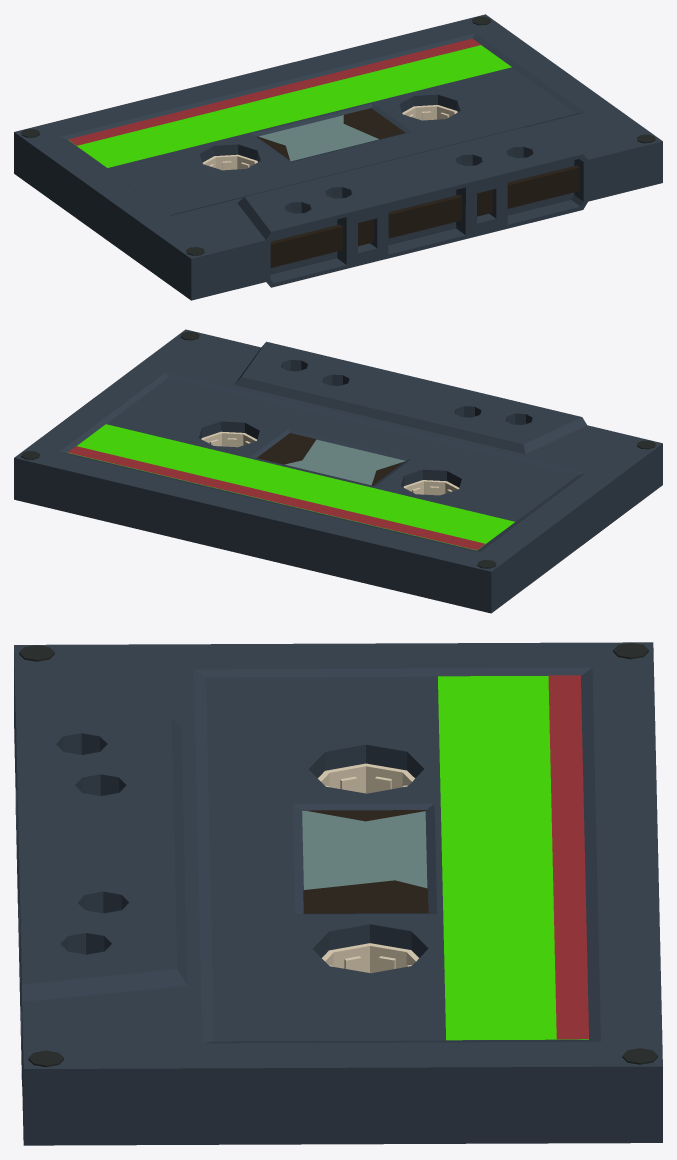
The model's file is Cassette.glb.
3 renders of one model, top to bottom at view 1: azimuth 30°, elevation 25°; view 2: azimuth 150°, elevation 25°; view 3: azimuth 270°, elevation 25°, orthographic. The views are drawn at different scales.
Parts seen in each view (by area): view 1: Cube.024_36, Plane.006_40, Cube.025_37, Circle_39, Cylinder.016_38; view 2: Cube.024_36, Plane.006_40, Circle_39, Cylinder.016_38; view 3: Cube.024_36, Plane.006_40, Circle_39, Cylinder.016_38.
Part boxes in pixels (x1,y1,x2,y2): Cube.024_36: (14, 14, 662, 300); Plane.006_40: (68, 38, 511, 167); Cube.025_37: (270, 165, 579, 267); Circle_39: (257, 108, 405, 160); Cylinder.016_38: (21, 16, 655, 255); Cube.024_36: (14, 329, 662, 613); Plane.006_40: (67, 424, 514, 550); Circle_39: (257, 433, 404, 485); Cylinder.016_38: (21, 331, 655, 568); Cube.024_36: (14, 642, 662, 1145); Plane.006_40: (438, 675, 588, 1040); Circle_39: (303, 810, 428, 913); Cylinder.016_38: (19, 642, 657, 1067).
Bounding box in the file's own units: 1.21 × 0.1349 × 0.7766.
